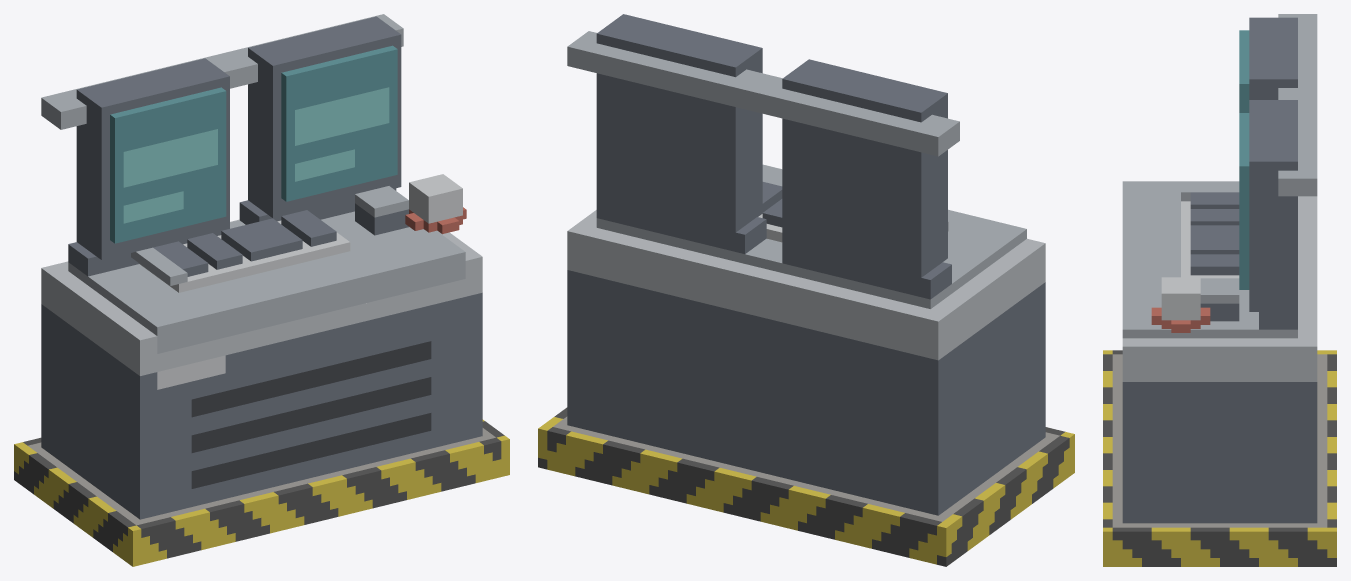
Rendered from operator_console.glb.
The picture shows the model from 3 angles, left to right: view 1: azimuth 30°, elevation 25°; view 2: azimuth 150°, elevation 25°; view 3: azimuth 270°, elevation 25°; orthographic projection. The views are drawn at different scales.
Parts seen in each view (by area): view 1: operator_console; view 2: operator_console; view 3: operator_console.
Part boxes in pixels (x1=…): operator_console: x1=14, y1=14, x2=509, y2=566; operator_console: x1=538, y1=14, x2=1074, y2=566; operator_console: x1=1103, y1=14, x2=1336, y2=566.
Size of the model in its own units: 1.38 by 1.38 by 0.75.
